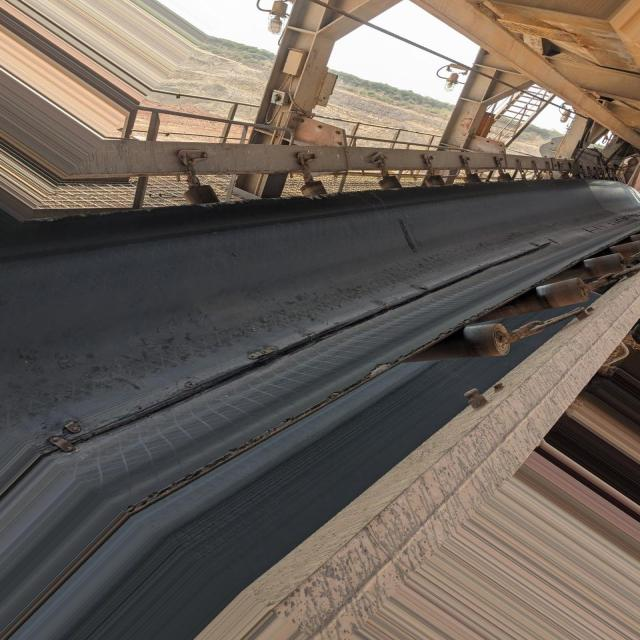Roller: (478, 240, 638, 325), (413, 322, 509, 365)
Tear: (62, 240, 573, 435)
